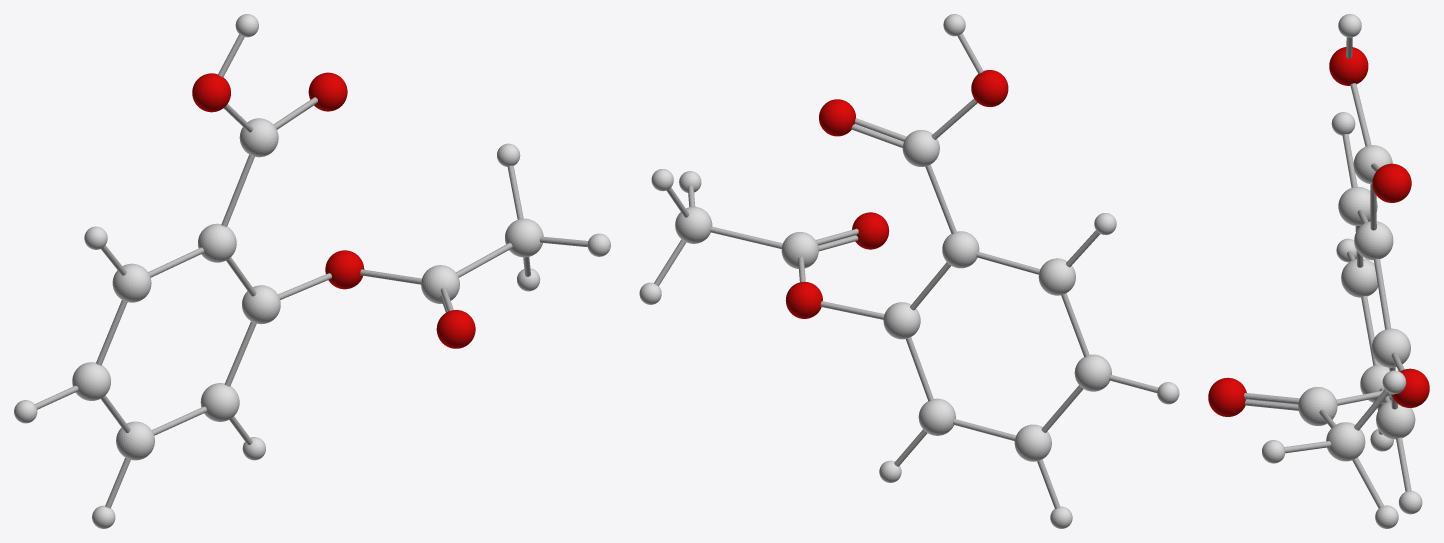
3 views of the same model, side by side, from view 1: azimuth 30°, elevation 25°; view 2: azimuth 150°, elevation 25°; view 3: azimuth 270°, elevation 25° (orthographic). The views are drawn at different scales.
Visible parts, largest first — view 1: world; view 2: world; view 3: world.
Boxes of the visible parts, bbox=[...] form: world: bbox=[14, 14, 610, 528]; world: bbox=[639, 14, 1179, 528]; world: bbox=[1208, 14, 1429, 528].
Size of the model in its own units: 8.25 by 6.99 by 2.82.
